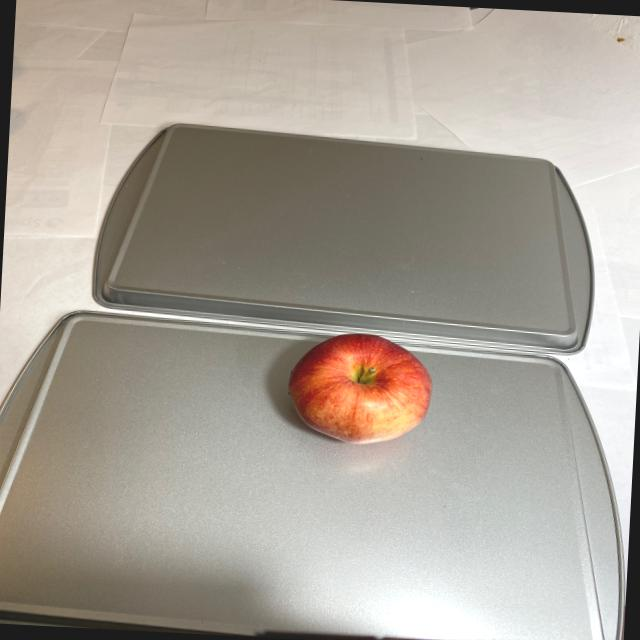apple: (281, 331, 436, 448)
